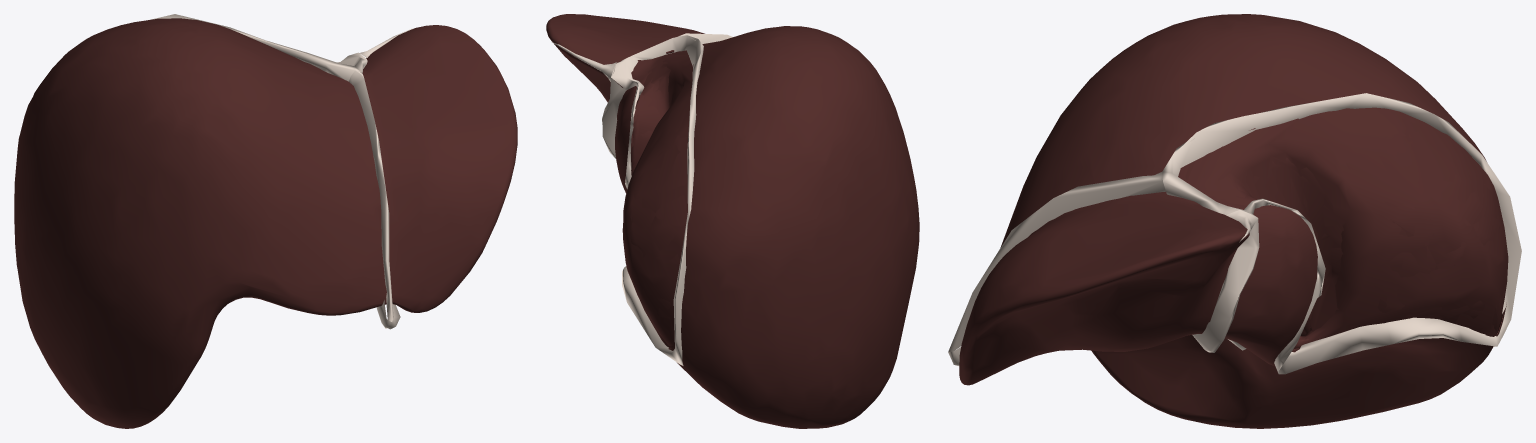
File: liver-male.lod1.glb
3 renders of one model, left to right at view 1: azimuth 30°, elevation 25°; view 2: azimuth 150°, elevation 25°; view 3: azimuth 270°, elevation 25°, orthographic. The views are drawn at different scales.
Parts seen in each view (by area): view 1: VH_M_liver_capsule, VH_M_falciform_ligament, VH_M_coronary_ligament_of_liver; view 2: VH_M_liver_capsule, VH_M_bare_area_of_liver, VH_M_coronary_ligament_of_liver, VH_M_right_posterosuperior_segment, VH_M_caudate_lobe_of_liver, VH_M_ligamentum_venosum, VH_M_diaphragmatic_surface, VH_M_right_posteroinferior_segment, VH_M_triangular_ligament_of_liver; view 3: VH_M_liver_capsule, VH_M_bare_area_of_liver, VH_M_coronary_ligament_of_liver, VH_M_right_posterosuperior_segment, VH_M_caudate_lobe_of_liver, VH_M_falciform_ligament, VH_M_diaphragmatic_surface, VH_M_ligamentum_venosum.
Boxes of the visible parts, x1=… form: VH_M_liver_capsule: x1=14, y1=18, x2=517, y2=428; VH_M_falciform_ligament: x1=349, y1=70, x2=393, y2=321; VH_M_coronary_ligament_of_liver: x1=151, y1=14, x2=367, y2=81; VH_M_liver_capsule: x1=546, y1=14, x2=919, y2=428; VH_M_bare_area_of_liver: x1=623, y1=50, x2=692, y2=347; VH_M_coronary_ligament_of_liver: x1=611, y1=35, x2=703, y2=365; VH_M_right_posterosuperior_segment: x1=622, y1=98, x2=690, y2=318; VH_M_caudate_lobe_of_liver: x1=631, y1=53, x2=690, y2=167; VH_M_ligamentum_venosum: x1=602, y1=78, x2=626, y2=158; VH_M_diaphragmatic_surface: x1=631, y1=76, x2=680, y2=337; VH_M_right_posteroinferior_segment: x1=647, y1=311, x2=674, y2=346; VH_M_triangular_ligament_of_liver: x1=552, y1=42, x2=616, y2=81; VH_M_liver_capsule: x1=959, y1=14, x2=1506, y2=428; VH_M_bare_area_of_liver: x1=1179, y1=107, x2=1508, y2=344; VH_M_coronary_ligament_of_liver: x1=1162, y1=93, x2=1521, y2=374; VH_M_right_posterosuperior_segment: x1=1335, y1=109, x2=1507, y2=318; VH_M_caudate_lobe_of_liver: x1=1187, y1=129, x2=1350, y2=348; VH_M_falciform_ligament: x1=948, y1=172, x2=1165, y2=351; VH_M_diaphragmatic_surface: x1=1228, y1=156, x2=1497, y2=348; VH_M_ligamentum_venosum: x1=1192, y1=218, x2=1259, y2=352.
Bounding box in the file's own units: 0.1913 × 0.1746 × 0.2018.
